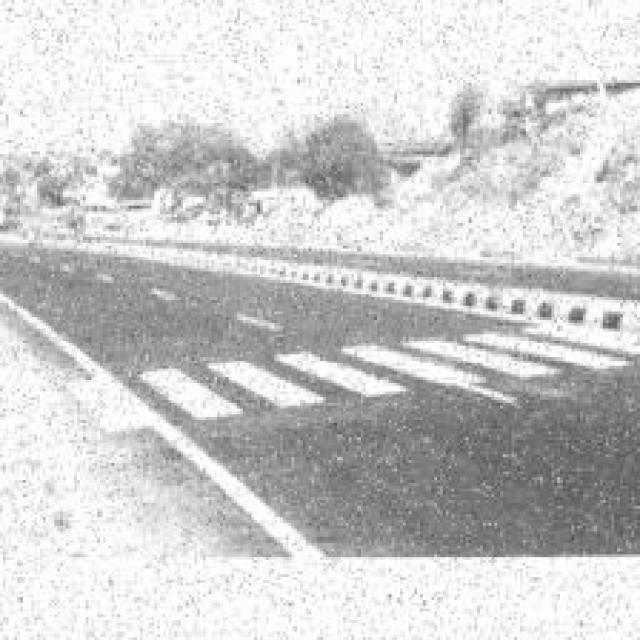crosswalk: (54, 316, 626, 462)
